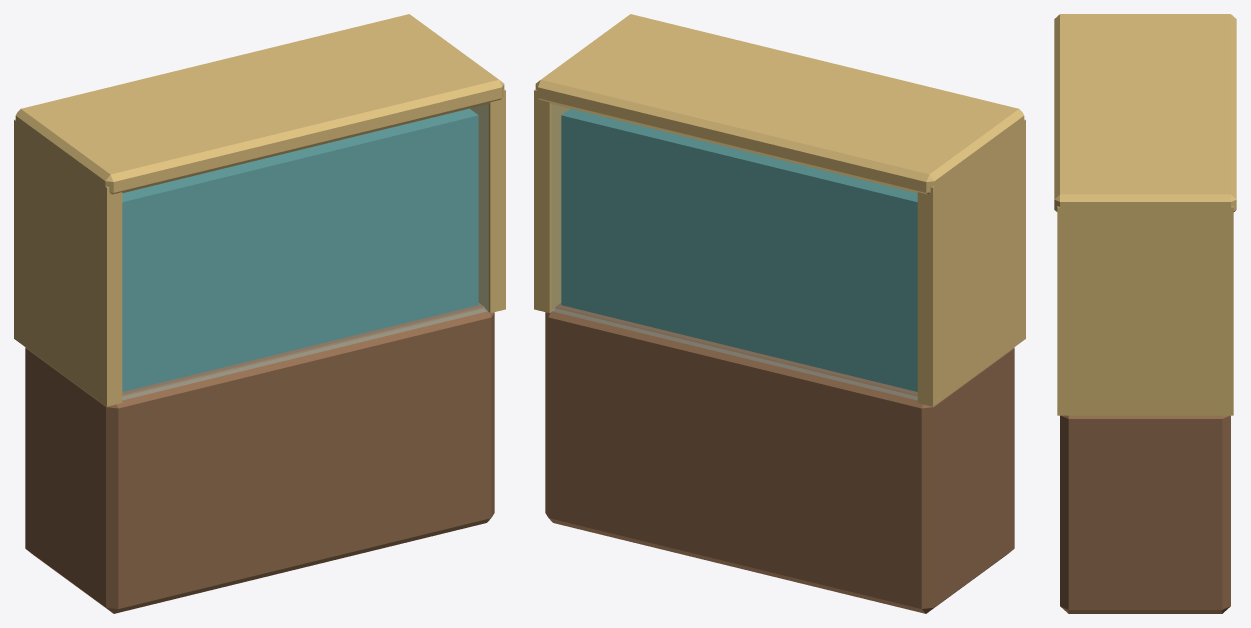
File: hm_aquarium.glb
3 views of the same model, side by side, from view 1: azimuth 30°, elevation 25°; view 2: azimuth 150°, elevation 25°; view 3: azimuth 270°, elevation 25° (orthographic). The views are drawn at different scales.
Parts seen in each view (by area): view 1: hm_aquarium; view 2: hm_aquarium; view 3: hm_aquarium.
Part boxes in pixels (x1,y1,x2,y2): hm_aquarium: [14, 14, 505, 613]; hm_aquarium: [534, 14, 1025, 613]; hm_aquarium: [1054, 14, 1236, 613].
Bounding box in the file's own units: 1.54 × 1.64 × 0.64.
